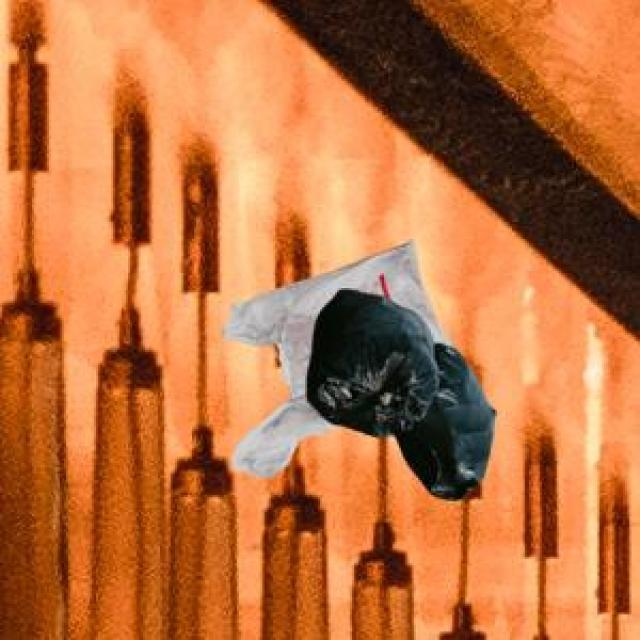miscellaneous trash: (303, 286, 493, 497)
